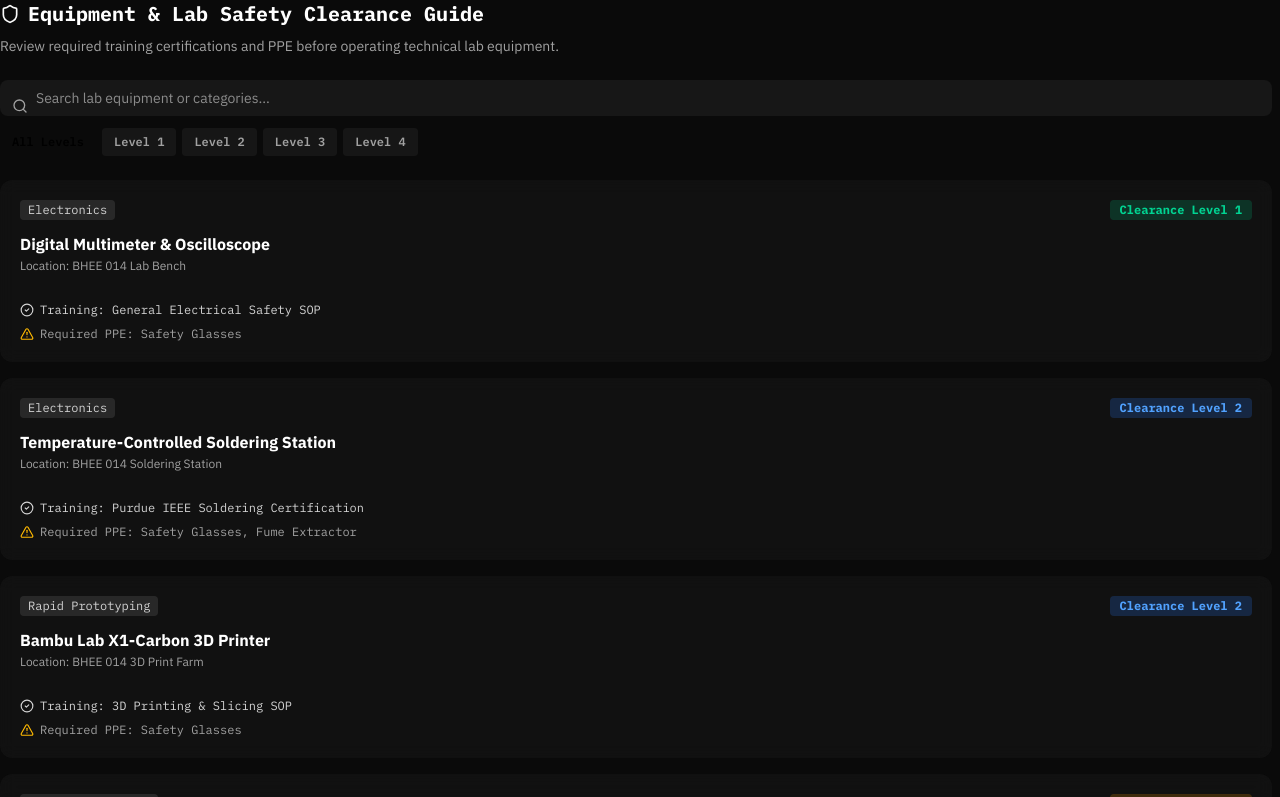
Test case: LabToolSafetyGuide Component › renders equipment list and filters by clearance level
Expected: the heading "Equipment & Lab Safety Clearance Guide" is shown, [28,0,484,28]
Expected: the heading "Digital Multimeter & Oscilloscope" is shown, [20,234,270,254]
Click the button "Level 4". click: (380, 142)
box: [343,128,418,156]
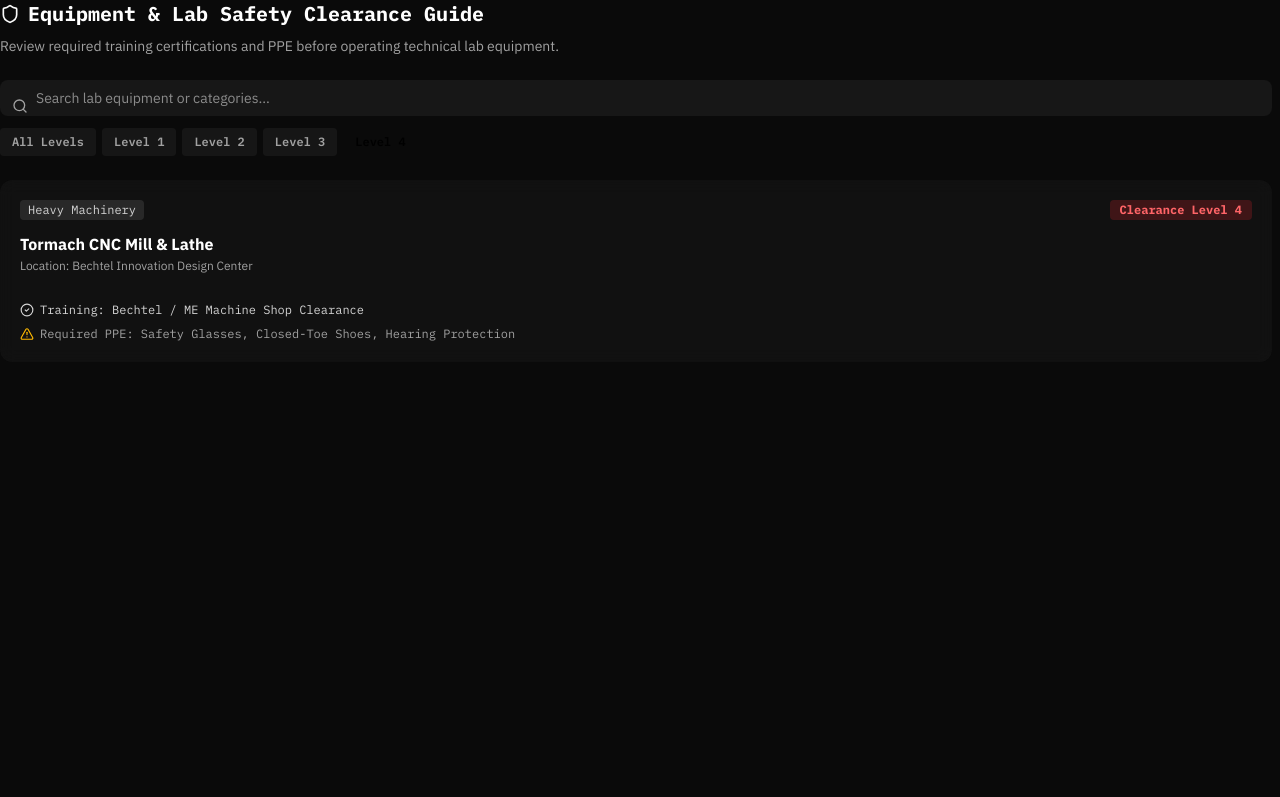
Expected: the heading "Tormach CNC Mill & Lathe" is shown, [20,234,214,254]
Expected: the heading "Digital Multimeter & Oscilloscope" is gone
